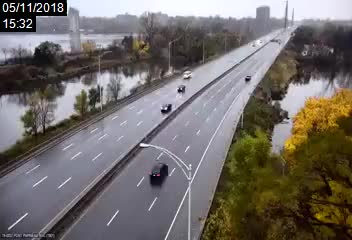personal_car: (147, 163, 169, 183), (159, 102, 172, 113), (176, 83, 186, 93), (182, 70, 193, 79), (243, 75, 252, 82)
